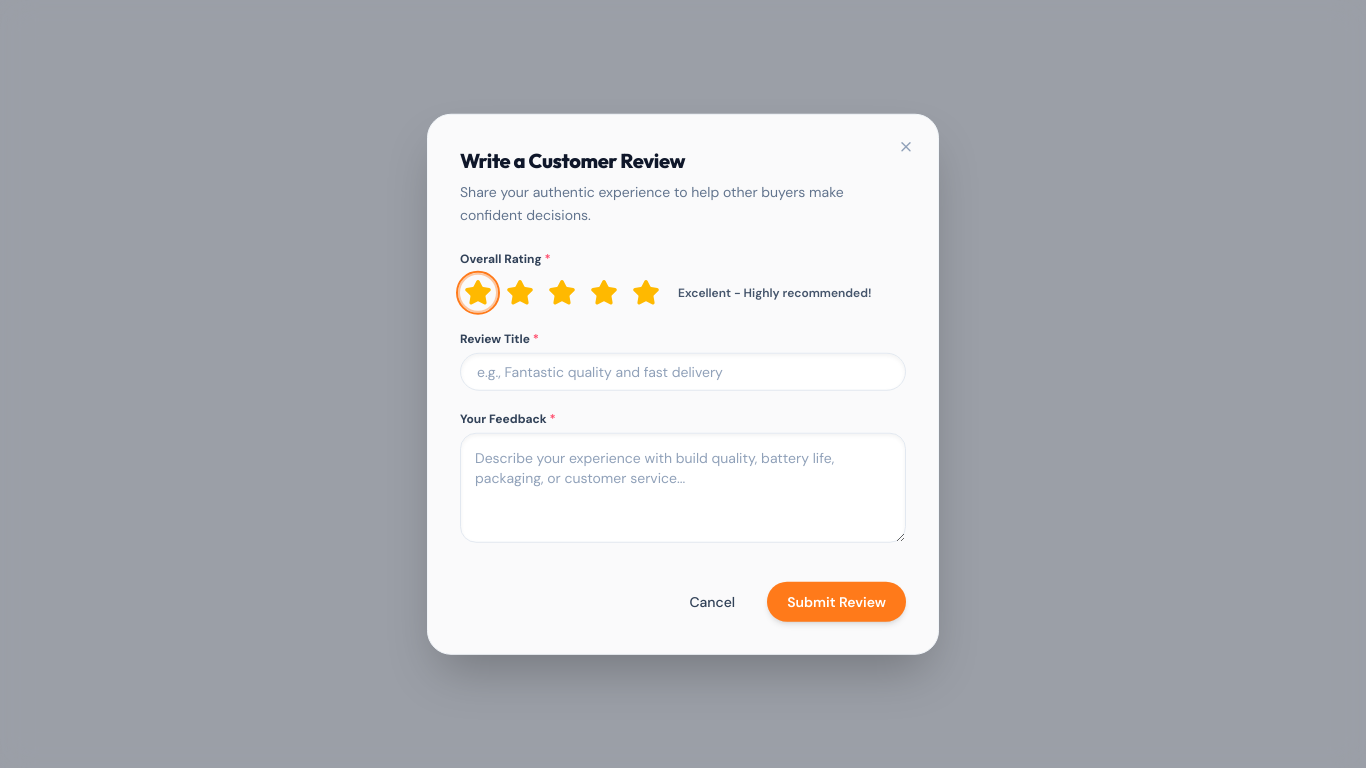
Test: WriteReviewModal component › validates required fields before submitting
// Click submit with empty fields
Click the button "Submit Review" at (837, 601), box [767,581,906,621]
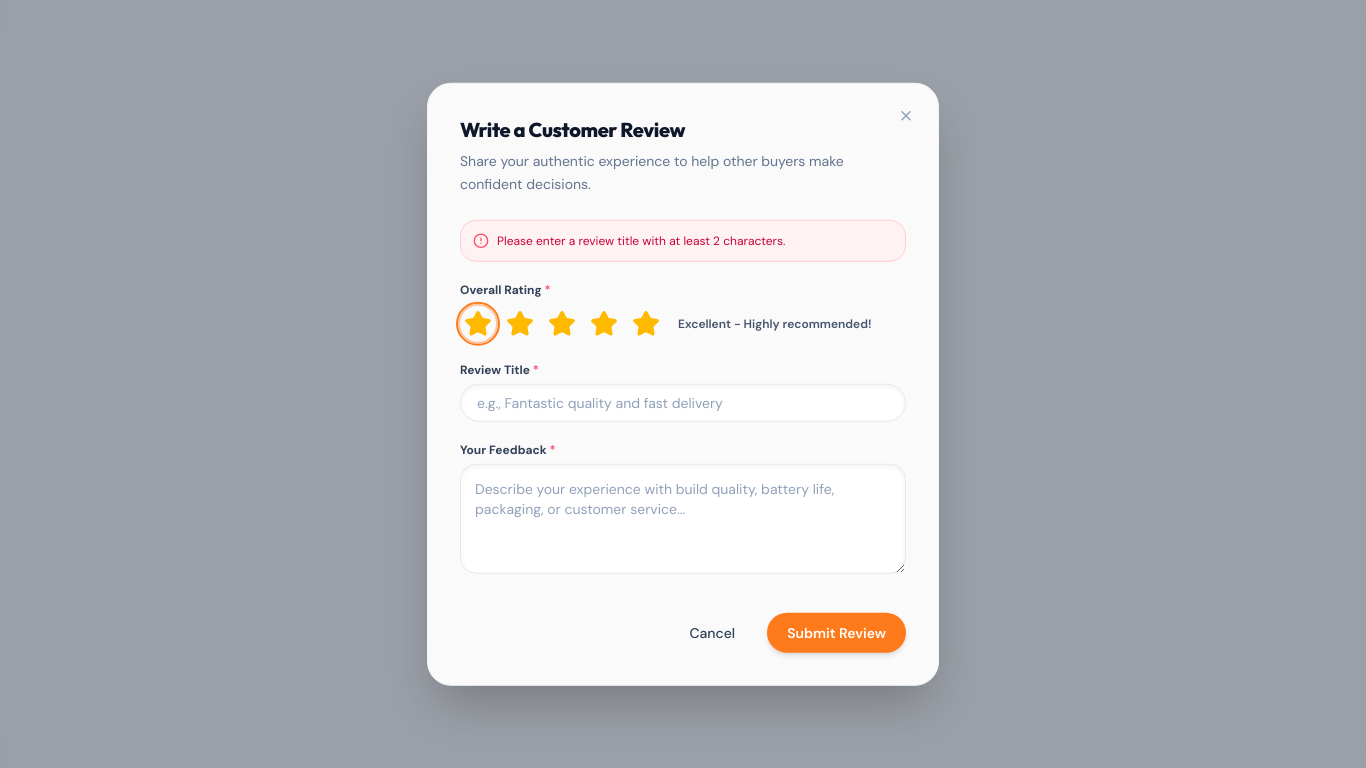
Expected: the text "Please enter a review title with at least 2 characters." is shown, [497,232,785,248]
